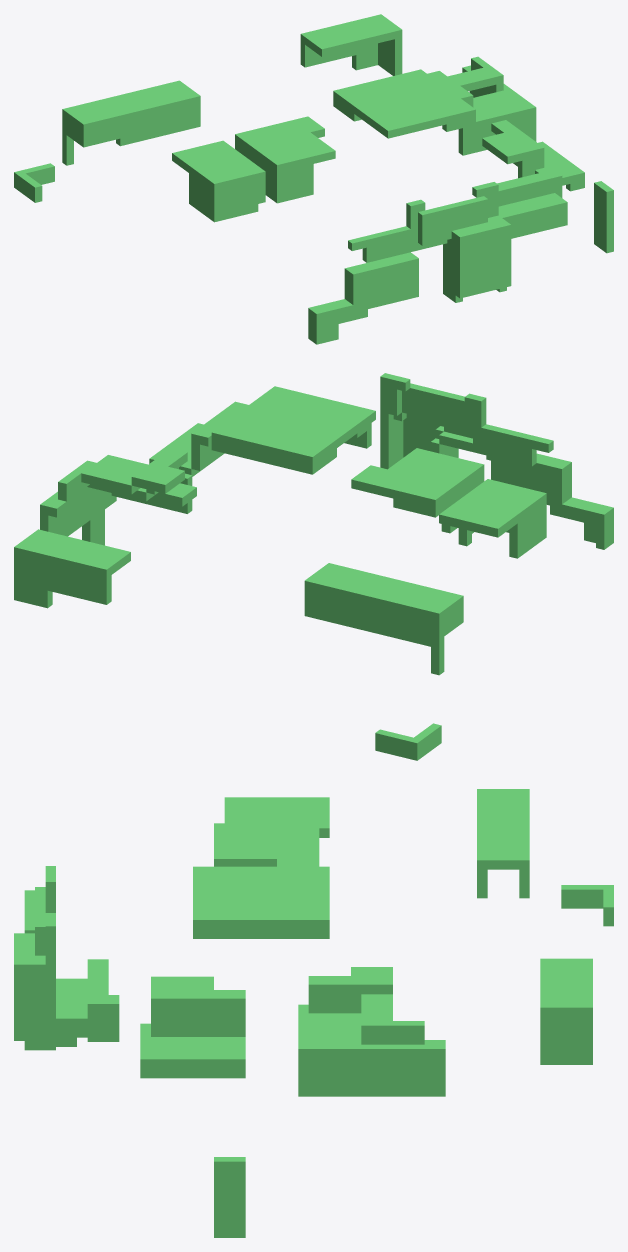
File: House-1.obj
3 views of the same model, one above another, from view 1: azimuth 30°, elevation 25°; view 2: azimuth 150°, elevation 25°; view 3: azimuth 270°, elevation 25° (orthographic). The views are drawn at different scales.
Bounding box in the file's own units: 6 × 2.4 × 5.7.
Materials: 1 (1 with a texture image).
